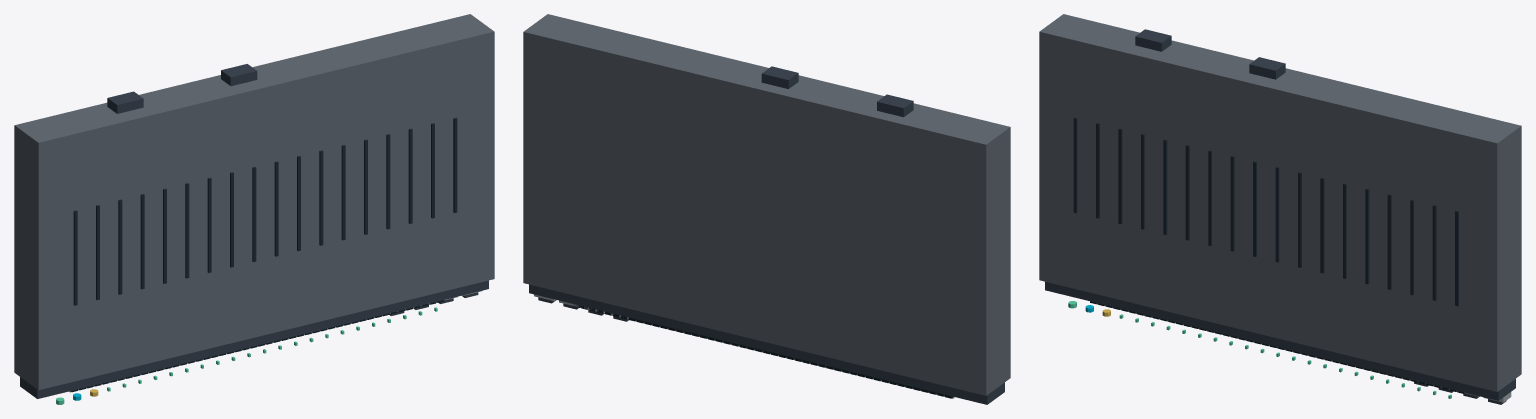
The model's file is switch_48port.glb.
3 renders of one model, left to right at view 1: azimuth 30°, elevation 25°; view 2: azimuth 150°, elevation 25°; view 3: azimuth 330°, elevation 25°, orthographic.
Parts seen in each view (by area): view 1: 000_switch chassis, 001_front fascia, 151_rear power inlet 1, 152_rear power inlet 2, 130_top ventilation slot 1, 132_top ventilation slot 3, 141_top ventilation slot 12, 133_top ventilation slot 4, 135_top ventilation slot 6, 136_top ventilation slot 7, 139_top ventilation slot 10, 142_top ventilation slot 13 (+4 smaller); view 2: 000_switch chassis, 001_front fascia, 152_rear power inlet 2, 151_rear power inlet 1; view 3: 000_switch chassis, 001_front fascia, 151_rear power inlet 1, 152_rear power inlet 2, 130_top ventilation slot 1, 141_top ventilation slot 12, 143_top ventilation slot 14, 132_top ventilation slot 3, 135_top ventilation slot 6, 137_top ventilation slot 8, 139_top ventilation slot 10, 144_top ventilation slot 15 (+2 smaller).
Part boxes in pixels (x1,y1,x2,y2): 000_switch chassis: [14, 14, 494, 390]; 001_front fascia: [20, 280, 488, 398]; 151_rear power inlet 1: [107, 91, 143, 113]; 152_rear power inlet 2: [221, 64, 257, 86]; 130_top ventilation slot 1: [73, 210, 77, 305]; 132_top ventilation slot 3: [118, 199, 122, 294]; 141_top ventilation slot 12: [319, 150, 323, 245]; 133_top ventilation slot 4: [140, 194, 144, 289]; 135_top ventilation slot 6: [185, 183, 189, 278]; 136_top ventilation slot 7: [207, 177, 211, 272]; 139_top ventilation slot 10: [274, 161, 278, 256]; 142_top ventilation slot 13: [341, 145, 345, 240]; 000_switch chassis: [523, 14, 1010, 395]; 001_front fascia: [529, 284, 1004, 404]; 152_rear power inlet 2: [761, 66, 798, 88]; 151_rear power inlet 1: [877, 94, 913, 117]; 000_switch chassis: [1039, 14, 1521, 391]; 001_front fascia: [1045, 281, 1515, 400]; 151_rear power inlet 1: [1135, 29, 1171, 51]; 152_rear power inlet 2: [1249, 57, 1285, 79]; 130_top ventilation slot 1: [1073, 117, 1077, 213]; 141_top ventilation slot 12: [1320, 177, 1324, 273]; 143_top ventilation slot 14: [1365, 188, 1369, 284]; 132_top ventilation slot 3: [1118, 128, 1122, 223]; 135_top ventilation slot 6: [1185, 145, 1189, 240]; 137_top ventilation slot 8: [1230, 156, 1234, 251]; 139_top ventilation slot 10: [1275, 166, 1279, 262]; 144_top ventilation slot 15: [1387, 194, 1391, 289].
Size of the model in its own units: 0.482 by 0.2845 by 0.046.
